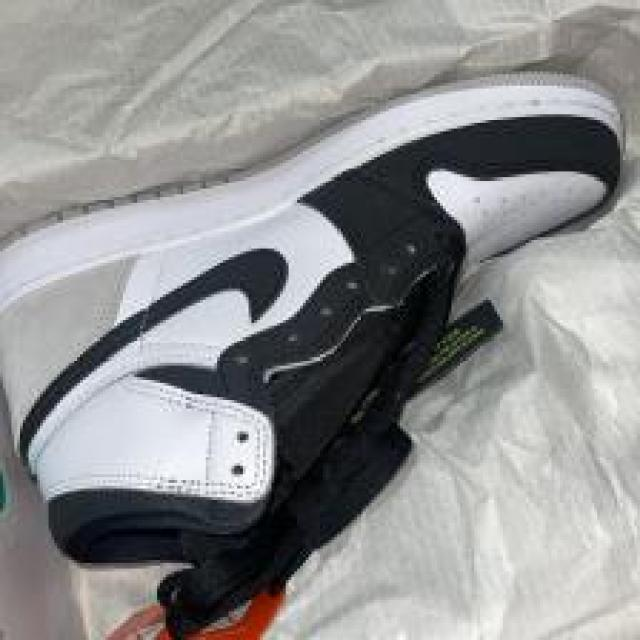shoe: (0, 0, 371, 8)
